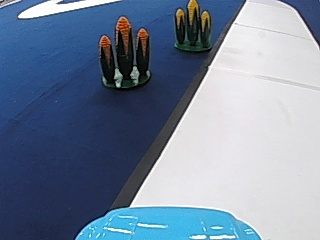corn: (97, 15, 154, 89), (171, 0, 213, 51)
